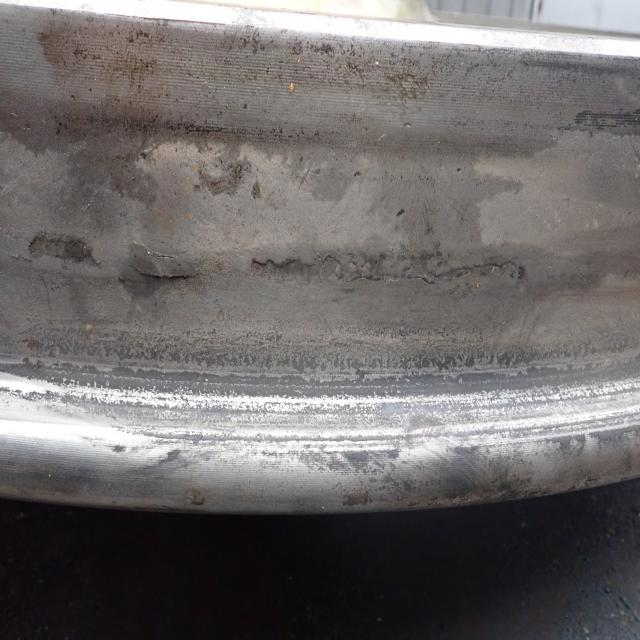Contact_Fatigue_Cracks: (131, 241, 201, 281)
Peeling: (253, 252, 527, 290), (29, 232, 98, 264)
